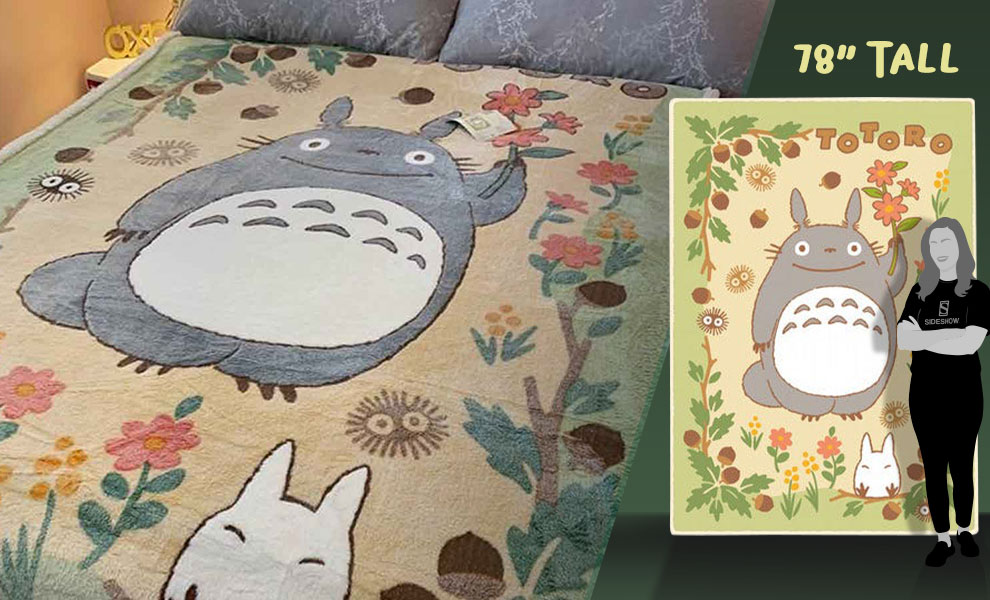Totoro: (17, 90, 541, 404), (736, 184, 911, 422)
